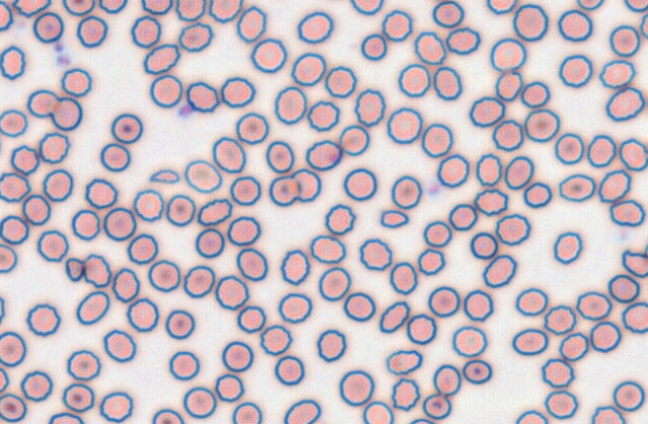PLT: (428, 182, 444, 197), (55, 55, 71, 67), (52, 41, 65, 53), (179, 105, 192, 117)
RBC: (605, 86, 645, 121), (386, 106, 422, 144), (512, 3, 548, 41), (338, 369, 374, 406), (250, 37, 287, 73), (489, 37, 526, 72), (184, 159, 222, 193), (274, 85, 307, 124), (214, 274, 249, 310), (212, 136, 246, 173), (523, 108, 560, 142), (353, 87, 385, 126), (75, 290, 110, 325), (290, 52, 326, 86), (26, 302, 61, 336), (558, 54, 593, 88), (297, 10, 333, 43), (305, 139, 342, 171), (482, 254, 516, 288), (343, 167, 377, 201), (126, 297, 159, 332), (103, 206, 136, 241), (318, 266, 351, 301), (436, 153, 469, 188), (451, 325, 487, 357), (494, 213, 530, 245), (143, 43, 180, 74), (468, 96, 505, 127), (102, 329, 136, 362), (358, 237, 392, 270), (397, 63, 430, 97), (235, 247, 268, 281), (413, 30, 446, 64), (235, 111, 269, 144), (149, 74, 182, 108), (50, 96, 82, 131), (66, 349, 101, 381), (390, 174, 422, 209), (421, 122, 453, 157), (220, 76, 255, 108), (557, 9, 592, 41), (309, 234, 346, 264), (280, 248, 310, 285), (575, 290, 612, 320), (236, 5, 266, 42), (598, 59, 635, 89), (36, 229, 69, 262), (147, 259, 180, 292), (598, 169, 631, 202), (324, 65, 357, 98), (84, 177, 118, 209), (182, 386, 216, 418), (183, 264, 215, 298), (226, 215, 261, 246), (277, 292, 312, 323), (178, 21, 213, 52), (558, 173, 595, 202), (378, 300, 410, 333), (132, 188, 164, 221), (612, 380, 645, 412), (491, 118, 523, 151), (541, 357, 575, 388), (42, 168, 73, 202), (99, 391, 133, 422), (511, 328, 548, 356), (32, 11, 64, 43), (324, 203, 356, 235), (38, 131, 70, 163), (589, 320, 621, 352), (338, 124, 370, 156), (221, 340, 253, 372), (427, 285, 459, 317), (259, 324, 292, 355), (342, 291, 375, 322), (186, 81, 219, 112), (307, 100, 340, 131), (130, 15, 161, 48), (110, 112, 143, 143), (609, 24, 640, 57), (291, 168, 321, 202), (390, 377, 420, 411), (543, 304, 577, 334), (316, 328, 346, 362), (504, 155, 534, 189), (197, 197, 232, 226), (111, 267, 140, 302), (543, 390, 578, 419), (473, 187, 508, 216), (445, 26, 480, 55), (609, 199, 645, 227), (385, 348, 422, 375), (126, 233, 158, 264), (20, 370, 52, 401), (76, 15, 107, 47), (381, 9, 412, 41), (165, 193, 195, 226), (586, 134, 616, 167), (389, 261, 418, 295), (618, 137, 647, 171), (433, 66, 462, 100), (0, 330, 26, 367), (268, 175, 299, 206), (194, 227, 225, 258), (21, 193, 51, 225), (62, 382, 94, 412), (406, 313, 436, 345), (60, 67, 92, 97), (168, 350, 200, 380), (463, 289, 493, 321), (99, 142, 131, 172), (229, 175, 261, 205), (554, 132, 584, 164), (71, 208, 100, 241), (432, 363, 461, 396), (607, 274, 640, 303), (265, 140, 294, 173), (515, 287, 548, 316), (553, 231, 582, 264), (83, 253, 111, 287), (283, 398, 321, 423), (0, 171, 30, 202), (164, 309, 195, 339), (26, 89, 59, 117), (431, 0, 464, 28), (475, 152, 502, 186), (558, 331, 588, 361), (274, 355, 304, 385), (0, 44, 25, 80), (10, 144, 39, 175), (0, 214, 29, 244), (214, 373, 244, 402), (495, 70, 523, 101), (236, 305, 266, 333), (520, 80, 550, 108), (621, 301, 647, 333), (469, 231, 498, 259), (448, 203, 477, 231), (0, 392, 27, 422), (422, 220, 452, 247), (422, 393, 451, 420), (0, 108, 27, 137), (523, 181, 552, 208), (208, 0, 242, 23), (462, 358, 492, 384), (417, 248, 445, 275), (362, 400, 394, 423), (360, 33, 387, 60), (231, 401, 262, 423), (12, 0, 51, 17), (590, 405, 625, 423), (175, 0, 205, 21), (0, 243, 17, 273), (349, 0, 383, 15), (151, 408, 184, 423), (62, 0, 95, 15), (140, 0, 172, 15), (515, 409, 548, 423), (486, 0, 517, 14), (48, 411, 84, 423), (98, 0, 127, 14), (0, 0, 13, 31), (623, 0, 647, 12), (576, 0, 604, 10), (0, 367, 9, 393), (639, 13, 648, 39), (408, 417, 435, 423), (0, 296, 5, 324), (643, 237, 648, 259), (423, 0, 452, 3)
Schistocyte: (622, 250, 648, 279), (380, 210, 410, 228), (149, 168, 181, 184), (66, 258, 84, 281)
